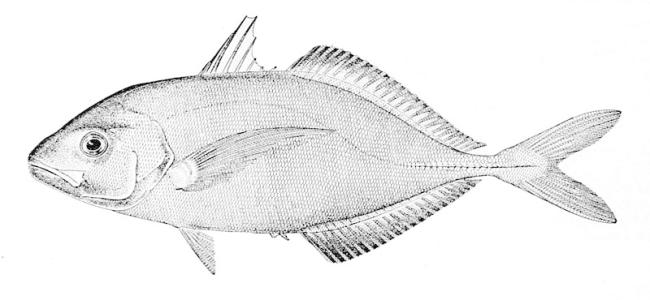fish: (27, 16, 622, 276)
